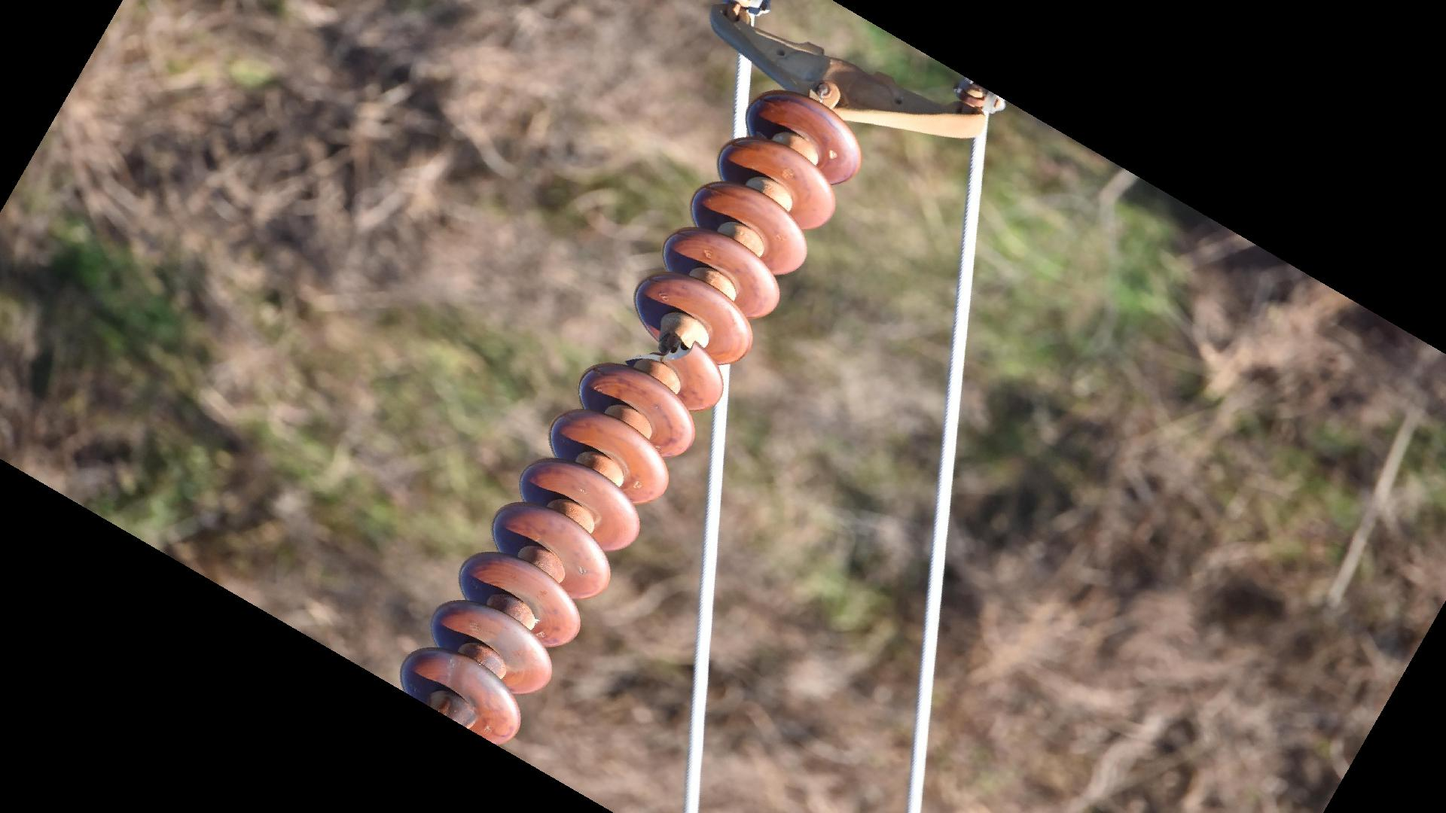insulator: (393, 81, 865, 744)
insulator_breakage: (623, 334, 706, 370)
